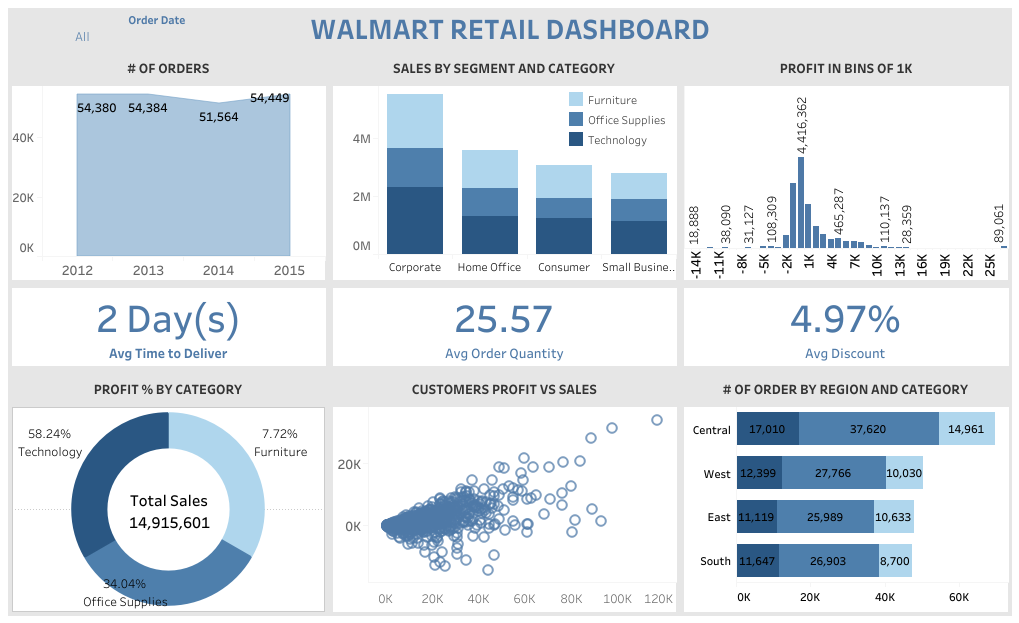

This screenshot's page, from the dashboard's own definition file:
{"tool":"tableau","page":{"name":"Dashboard 1","canvas":[1000,1000],"units":"permille","ordinal":0},"visuals":[{"type":"text","box":[7.8,13.7,984.3,63.2]},{"type":"filter","title":"Total orders","param":"[federated.13tshca1mvq5gk1132q2e0tfwch4].[none:Order Date:ok]","box":[71.6,17.1,164.7,65]},{"type":"worksheet","title":"Total orders","mark":"Area","rows":["Order Quantity"],"cols":["Order Date"],"box":[7.8,76.9,314.7,377.8]},{"type":"worksheet","title":"Sales by Segment and Category","mark":"Automatic","rows":["Sales"],"cols":["Customer Segment"],"box":[322.5,76.9,344.1,377.8]},{"type":"worksheet","title":"Profit in Bins of 1K","mark":"Bar","rows":["Sales"],"cols":["Profit (bin)"],"box":[666.6,76.9,325.5,377.8]},{"type":"legend","title":"Sales by Segment and Category","param":"[federated.13tshca1mvq5gk1132q2e0tfwch4].[none:Product Category:nk]","box":[554.9,141.9,105.9,123.1]},{"type":"worksheet","title":"KPI","mark":"Automatic","box":[7.8,454.7,314.7,136.7]},{"type":"worksheet","title":"KPI 3","mark":"Automatic","box":[322.5,454.7,344.1,136.7]},{"type":"worksheet","title":"KPI 2","mark":"Automatic","box":[666.6,454.7,325.5,136.7]},{"type":"worksheet","title":"Profit % by Category","mark":"Pie","rows":["Calculation_1023161553949143040","Calculation_1023161553949143040"],"box":[7.8,591.4,314.7,394.9]},{"type":"worksheet","title":"Customer Profit vs Sales","mark":"Automatic","rows":["Profit"],"cols":["Sales"],"box":[322.5,591.4,344.1,394.9]},{"type":"worksheet","title":"# of Order By Region And Category","mark":"Automatic","rows":["Region"],"cols":["Order Quantity"],"box":[666.6,591.4,325.5,394.9]}]}

Visuals, with their boxes on the dashboard's canvas, which has no fixed pixel size, in thousandths of its width and height (x1, y1, x2, y2). These are canvas units, not pixel positions in the 1019x623 screenshot, which may show the page scaled, cropped or inside an application window:
text: 8, 14, 992, 77
"Total orders" filter: 72, 17, 236, 82
"Total orders" worksheet (Area marks): 8, 77, 322, 455
"Sales by Segment and Category" worksheet: 322, 77, 667, 455
"Profit in Bins of 1K" worksheet (Bar marks): 667, 77, 992, 455
"Sales by Segment and Category" legend: 555, 142, 661, 265
"KPI" worksheet: 8, 455, 322, 591
"KPI 3" worksheet: 322, 455, 667, 591
"KPI 2" worksheet: 667, 455, 992, 591
"Profit % by Category" worksheet (Pie marks): 8, 591, 322, 986
"Customer Profit vs Sales" worksheet: 322, 591, 667, 986
"# of Order By Region And Category" worksheet: 667, 591, 992, 986
